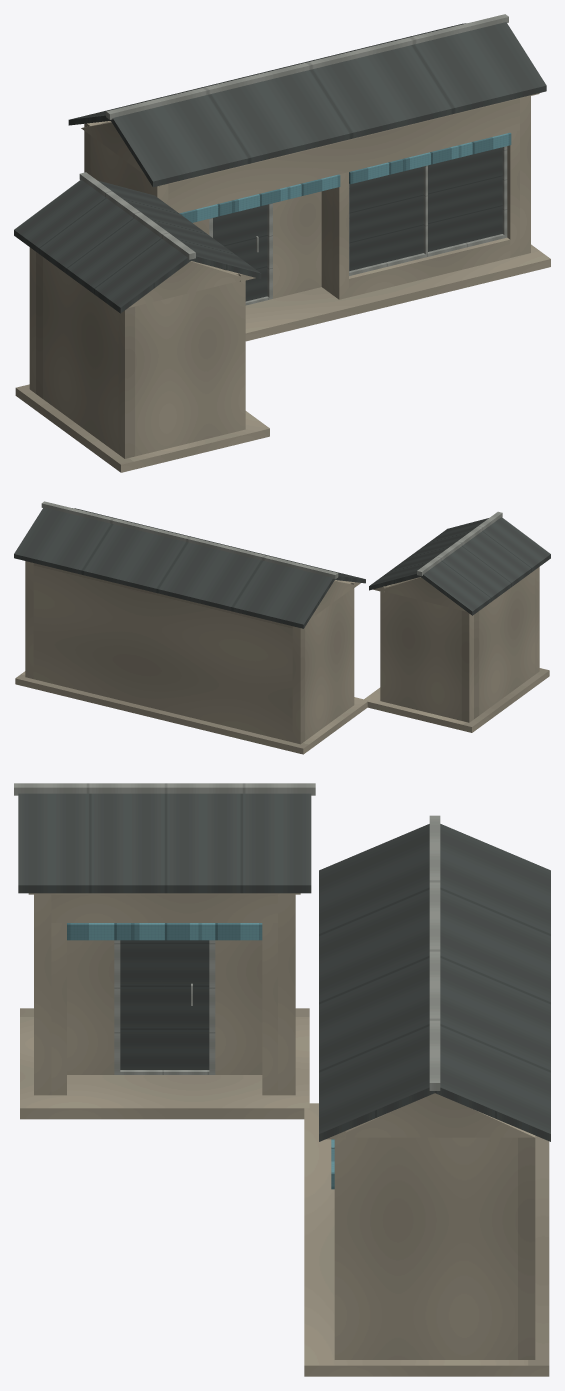
Rendered from tarawa.glb.
3 renders of one model, top to bottom at view 1: azimuth 30°, elevation 25°; view 2: azimuth 150°, elevation 25°; view 3: azimuth 270°, elevation 25°, orthographic. The views are drawn at different scales.
Visible parts, largest first — view 1: tarawa; view 2: tarawa; view 3: tarawa.
Part boxes in pixels (<box>): tarawa: <box>14,14,550,472</box>; tarawa: <box>14,501,550,754</box>; tarawa: <box>14,783,550,1376</box>.
Bounding box in the file's own units: 8.6 × 3.29 × 5.41.
Materials: 1 (1 with a texture image).
